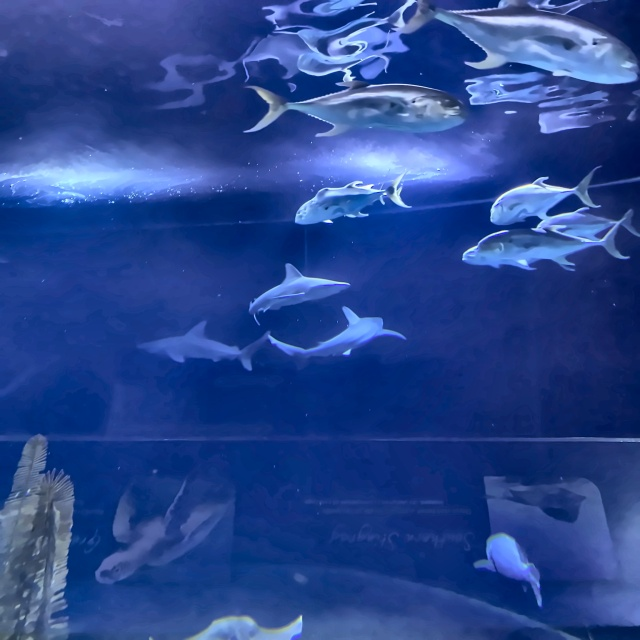fish: (476, 213, 632, 266), (484, 169, 602, 224), (465, 529, 551, 603), (285, 182, 378, 231), (308, 179, 415, 220), (453, 236, 558, 272), (528, 205, 623, 237)
shark: (269, 308, 413, 361), (240, 256, 354, 317), (132, 318, 262, 366)
